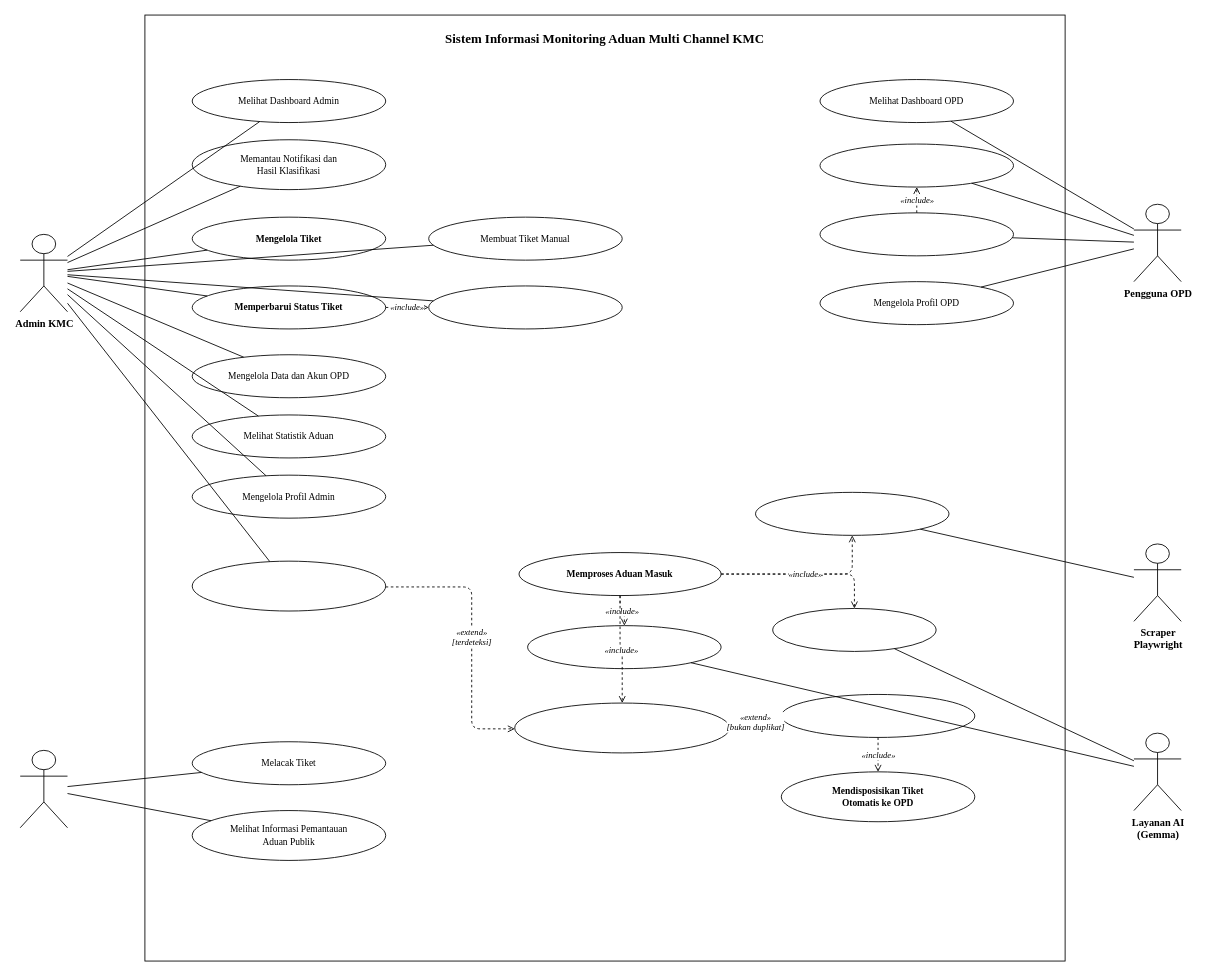
Image size: 1207x976. Some labels were removed from this diagram. The box of each missing label's shape, as (x1, y1, x2, y2) in pixels:
Masyarakat: (19, 749, 68, 828)
Melihat Tiket OPD: (819, 143, 1014, 187)
Memberikan Tanggapan Tiket: (819, 212, 1014, 256)
Membuat Tiket Otomatis: (780, 694, 975, 737)
Memverifikasi Kemungkinan Duplikasi: (191, 560, 386, 611)
Mendeteksi Kemungkinan Duplikasi (Cosine Similarity): (514, 702, 730, 753)
Mengambil Data Aduan: (755, 491, 949, 535)
Mengklasifikasikan Aduan: (527, 625, 721, 669)
Meninjau Tanggapan OPD: (428, 285, 622, 329)
Menyaring Spam: (772, 608, 936, 651)
